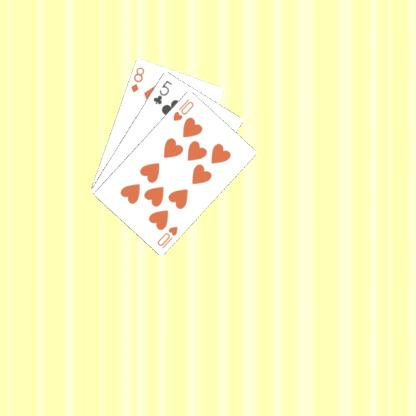10H: (170, 96, 196, 122), (154, 223, 179, 250)
5C: (150, 77, 174, 106)
8D: (128, 63, 146, 94)
